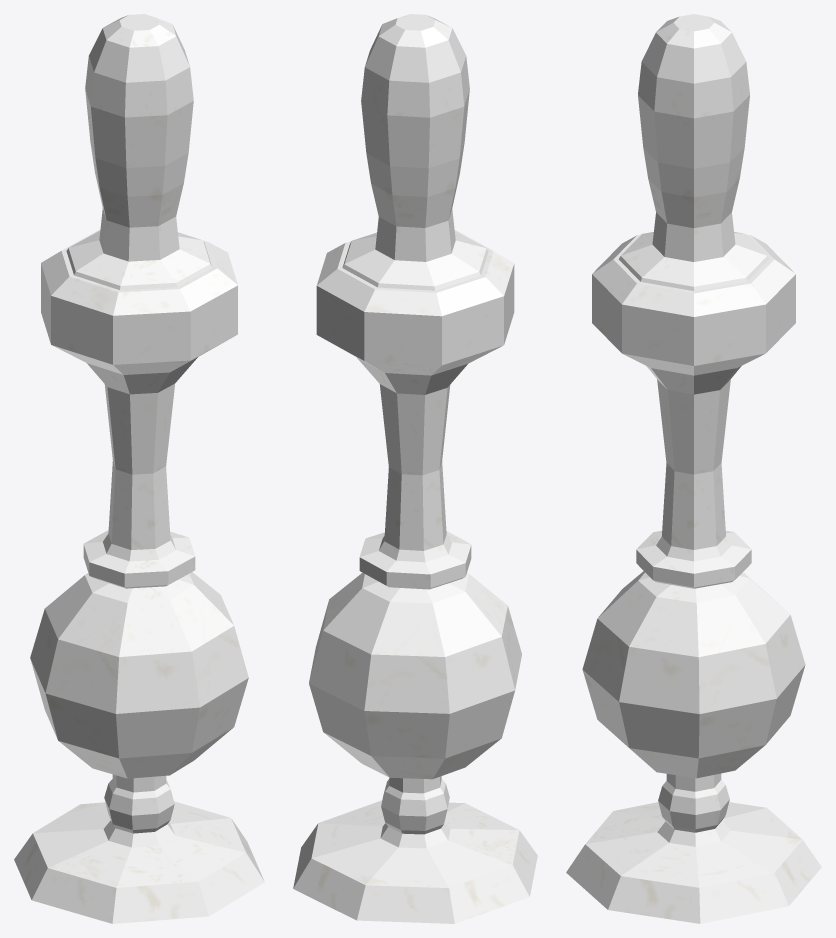
File: BILLIE_04.glb
3 renders of one model, left to right at view 1: azimuth 30°, elevation 25°; view 2: azimuth 150°, elevation 25°; view 3: azimuth 270°, elevation 25°, orthographic.
Size of the model in its own units: 0.0481 by 0.1755 by 0.0481.
1 material, 1 textured.
